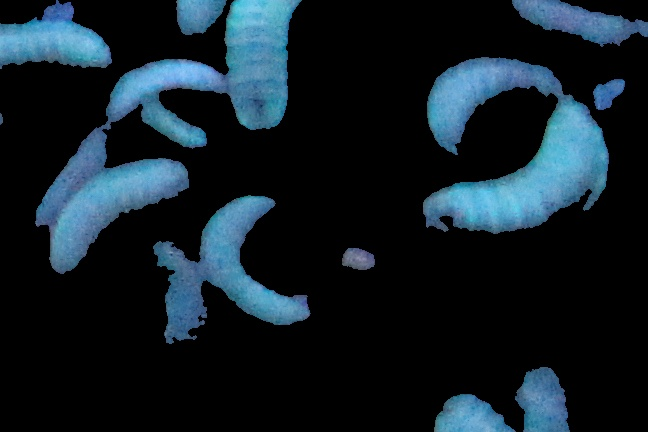larvae: (419, 82, 616, 248), (193, 190, 332, 351), (47, 149, 196, 280), (402, 37, 579, 145), (223, 1, 326, 136), (1, 8, 114, 84), (97, 54, 224, 111)
